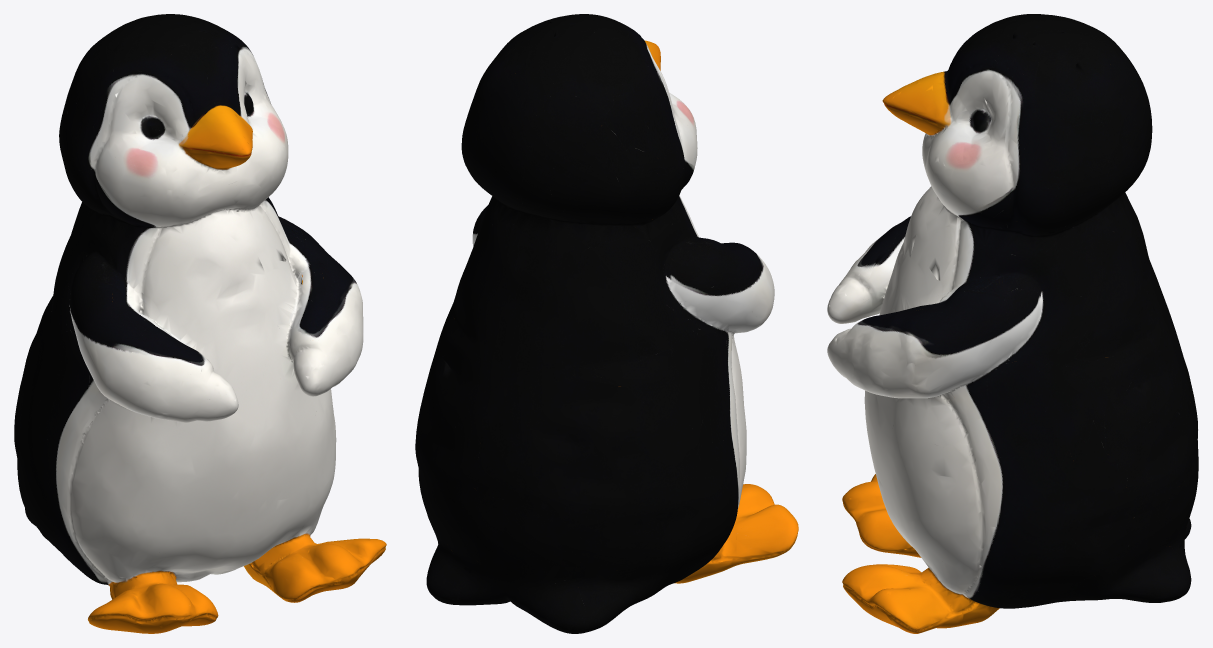
Rendered from chubby-penguin.glb.
The picture shows the model from 3 angles, left to right: view 1: azimuth 30°, elevation 25°; view 2: azimuth 150°, elevation 25°; view 3: azimuth 270°, elevation 25°; orthographic projection. The views are drawn at different scales.
Size of the model in its own units: 1.08 by 1.91 by 1.15.
1 material, 1 textured.
